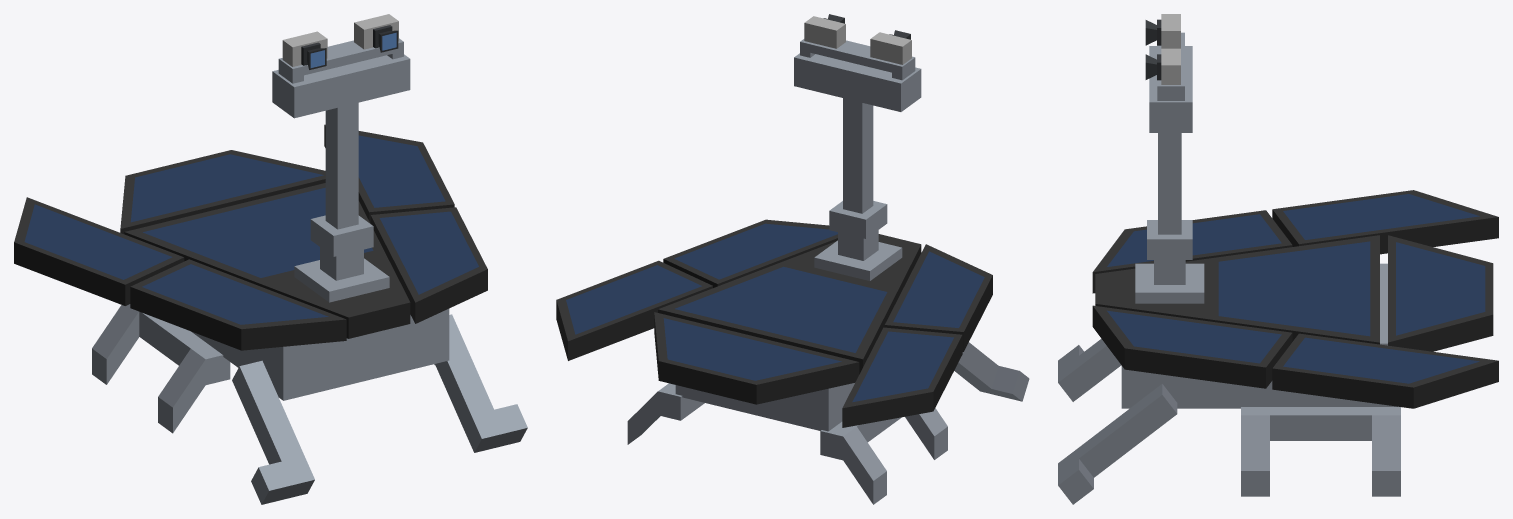
The model's file is SM_Veh_Rover_custom.fbx.
3 renders of one model, left to right at view 1: azimuth 30°, elevation 25°; view 2: azimuth 150°, elevation 25°; view 3: azimuth 270°, elevation 25°, orthographic. The views are drawn at different scales.
Visible parts, largest first — view 1: SM_Veh_Rover_02; view 2: SM_Veh_Rover_02; view 3: SM_Veh_Rover_02.
Part boxes in pixels (x1=…): SM_Veh_Rover_02: x1=14, y1=14, x2=527, y2=504; SM_Veh_Rover_02: x1=556, y1=14, x2=1029, y2=504; SM_Veh_Rover_02: x1=1058, y1=14, x2=1498, y2=504.
Bounding box in the file's own units: 2.69 × 2.55 × 2.53.
